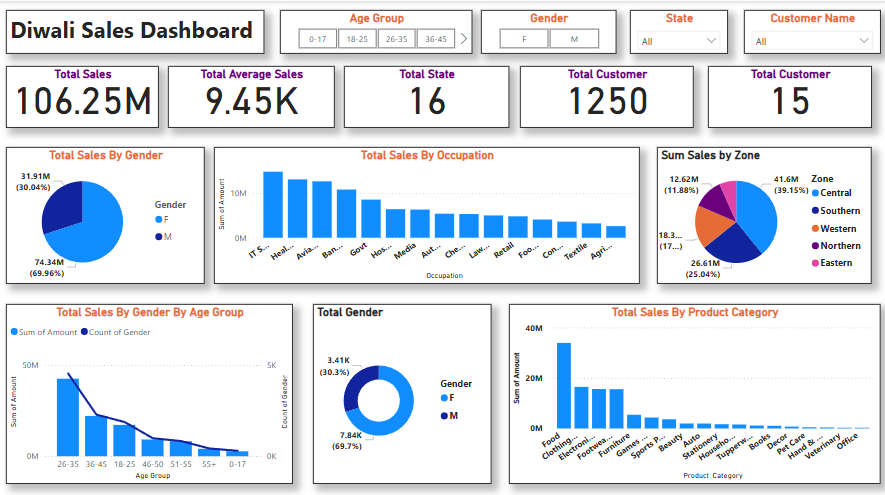

The dashboard page shown, as its layout file describes it:
{"tool":"powerbi","page":{"name":"Page 1","canvas":[1280,720],"ordinal":0},"visuals":[{"type":"textbox","box":[10.7,12.5,371.8,62.6],"z":0},{"type":"slicer","title":"Age Group","fields":{"Values":["Diwali Sales Data.Age Group"]},"box":[404,12.5,277.1,62.6],"z":1},{"type":"slicer","title":"Gender","fields":{"Values":["Diwali Sales Data.Gender"]},"box":[693.6,12.5,194.9,62.6],"z":2},{"type":"slicer","title":"State","fields":{"Values":["Diwali Sales Data.State"]},"box":[908.2,12.5,141.2,62.6],"z":3},{"type":"slicer","title":"Customer Name","fields":{"Values":["Diwali Sales Data.Cust_name"]},"box":[1072.6,12.5,196.6,62.6],"z":4},{"type":"card","title":"Total Sales","fields":{"Values":["Diwali Sales Data.Amount"]},"box":[10.7,93,219.9,89.4],"z":5},{"type":"card","title":"Total Average Sales","fields":{"Values":["Diwali Sales Data.Amount"]},"box":[243.1,93,239.6,89.4],"z":6},{"type":"card","title":"Total State","fields":{"Values":["Diwali Sales Data.State"]},"box":[497,93,237.8,89.4],"z":7},{"type":"card","title":"Total Customer","fields":{"Values":["Diwali Sales Data.Cust_name"]},"box":[750.8,93,250.3,89.4],"z":8},{"type":"card","title":"Total Customer","fields":{"Values":["Diwali Sales Data.Occupation"]},"box":[1020.8,93,236,89.4],"z":9},{"type":"pieChart","title":"Total Sales By Gender","fields":{"Category":["Diwali Sales Data.Gender"],"Y":["Diwali Sales Data.Amount"]},"box":[10.7,210.9,286,196.6],"z":10},{"type":"columnChart","title":"Total Sales By Occupation","fields":{"Category":["Diwali Sales Data.Occupation"],"Y":["Diwali Sales Data.Amount"]},"box":[309.3,210.9,613.2,196.6],"z":11},{"type":"columnChart","title":"Total Sales By Product Category","fields":{"Category":["Diwali Sales Data.Product_Category"],"Y":["Diwali Sales Data.Amount"]},"box":[734.7,436.2,534.5,259.2],"z":12},{"type":"pieChart","title":"Sum Sales by Zone","fields":{"Category":["Diwali Sales Data.Zone"],"Y":["Diwali Sales Data.Amount"]},"box":[947.5,210.9,309.3,196.6],"z":13},{"type":"lineStackedColumnComboChart","title":"Total Sales By Gender By Age Group","fields":{"Category":["Diwali Sales Data.Age Group"],"Y":["Diwali Sales Data.Amount"],"Y2":["Diwali Sales Data.Gender"]},"box":[10.7,436.2,413,259.2],"z":14},{"type":"donutChart","title":"Total Gender","fields":{"Category":["Diwali Sales Data.Gender"],"Series":["Diwali Sales Data.Gender"],"Y":["Diwali Sales Data.Gender"]},"box":[452.3,436.2,257.4,259.2],"z":15}]}

Visuals, with their boxes in screenshot pixels (x1, y1, x2, y2), scaled from the page's 1280x720 canvas onto the 885x495 screenshot:
textbox: box(7, 9, 264, 52)
"Age Group" slicer: box(279, 9, 471, 52)
"Gender" slicer: box(480, 9, 614, 52)
"State" slicer: box(628, 9, 726, 52)
"Customer Name" slicer: box(742, 9, 878, 52)
"Total Sales" card: box(7, 64, 159, 125)
"Total Average Sales" card: box(168, 64, 334, 125)
"Total State" card: box(344, 64, 508, 125)
"Total Customer" card: box(519, 64, 692, 125)
"Total Customer" card: box(706, 64, 869, 125)
"Total Sales By Gender" pieChart: box(7, 145, 205, 280)
"Total Sales By Occupation" columnChart: box(214, 145, 638, 280)
"Total Sales By Product Category" columnChart: box(508, 300, 878, 478)
"Sum Sales by Zone" pieChart: box(655, 145, 869, 280)
"Total Sales By Gender By Age Group" lineStackedColumnComboChart: box(7, 300, 293, 478)
"Total Gender" donutChart: box(313, 300, 491, 478)
